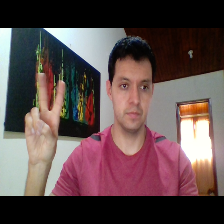KP: (22, 71, 69, 166)
